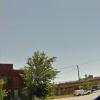Tree: (22, 45, 66, 100)
